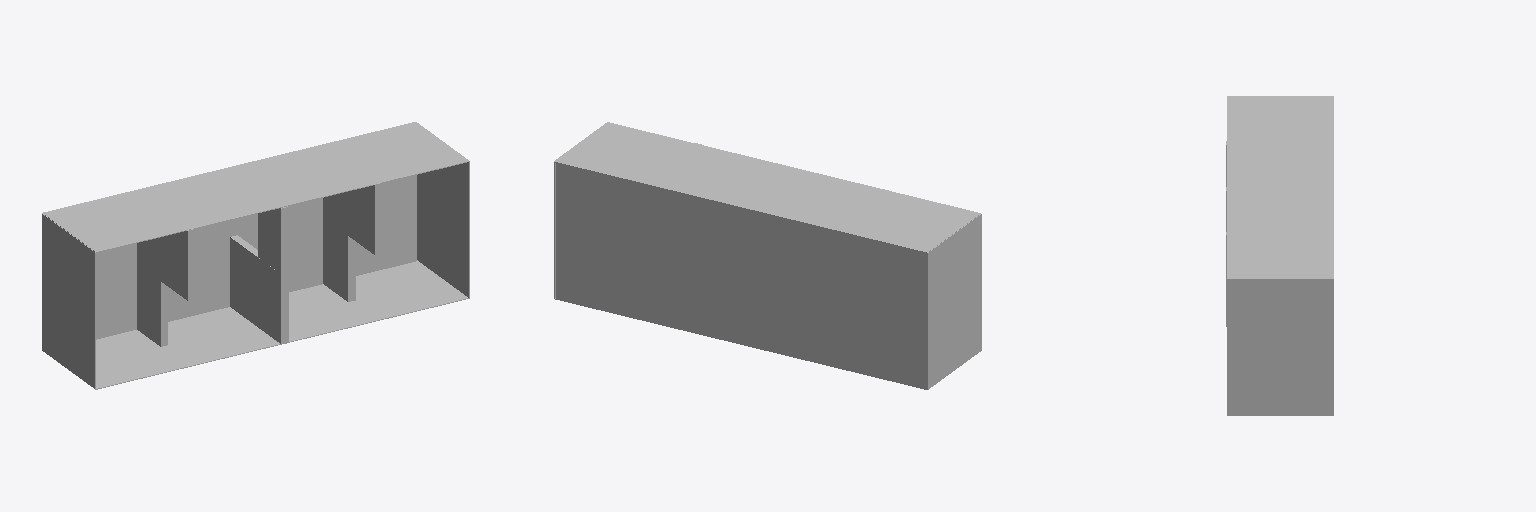
Rendered from corridor.obj.
3 views of the same model, side by side, from view 1: azimuth 30°, elevation 25°; view 2: azimuth 150°, elevation 25°; view 3: azimuth 270°, elevation 25° (orthographic).
Parts seen in each view (by area): view 1: Wall3_Cube.004, Wall4_Cube.005, Floor_Cube.001, Wall2_Cube.003, Wall1_Cube.002, Wall_L.002_Cube.009, Wall_L.001_Cube.012, Wall_L.003_Cube.013, Wall_B.003_Cube.011, Wall_B.002_Cube.010, Wall_B.001_Cube.008; view 2: Floor_Cube.001, Wall3_Cube.004, Wall2_Cube.003, Wall_L.002_Cube.009; view 3: Wall3_Cube.004, Wall1_Cube.002.
Part boxes in pixels (bbox=[...]): Wall3_Cube.004: bbox=[43, 122, 469, 252]; Wall4_Cube.005: bbox=[96, 260, 469, 389]; Floor_Cube.001: bbox=[96, 175, 416, 339]; Wall2_Cube.003: bbox=[42, 213, 95, 389]; Wall1_Cube.002: bbox=[417, 162, 469, 297]; Wall_L.002_Cube.009: bbox=[230, 235, 288, 344]; Wall_L.001_Cube.012: bbox=[323, 183, 381, 254]; Wall_L.003_Cube.013: bbox=[137, 229, 194, 300]; Wall_B.003_Cube.011: bbox=[323, 218, 355, 301]; Wall_B.002_Cube.010: bbox=[137, 264, 167, 346]; Wall_B.001_Cube.008: bbox=[258, 206, 288, 273]; Floor_Cube.001: bbox=[556, 163, 926, 389]; Wall3_Cube.004: bbox=[554, 122, 980, 252]; Wall2_Cube.003: bbox=[927, 214, 981, 389]; Wall_L.002_Cube.009: bbox=[735, 273, 742, 344]; Wall3_Cube.004: bbox=[1227, 96, 1333, 278]; Wall1_Cube.002: bbox=[1227, 279, 1333, 414].
Size of the model in its own units: 10.03 by 3.52 by 2.52.